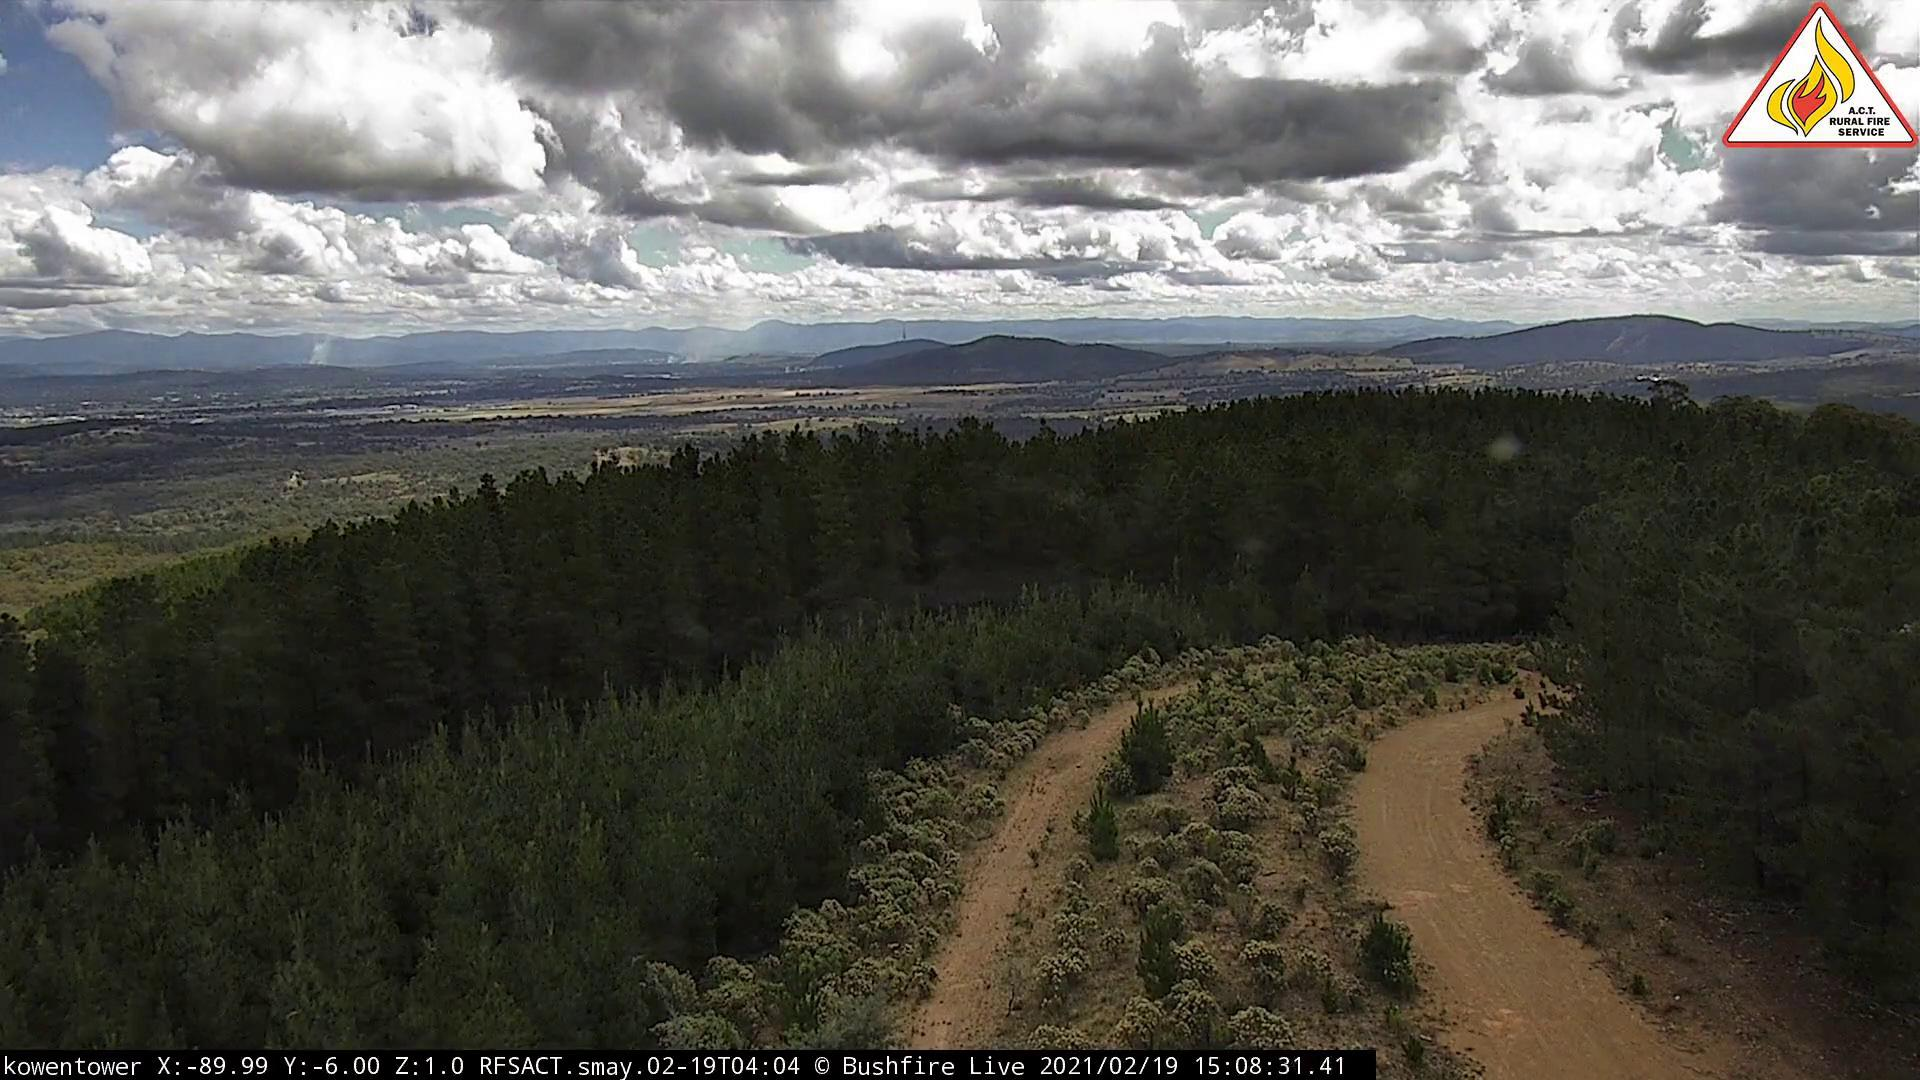Smoke: (294, 310, 382, 376), (665, 309, 746, 371)
